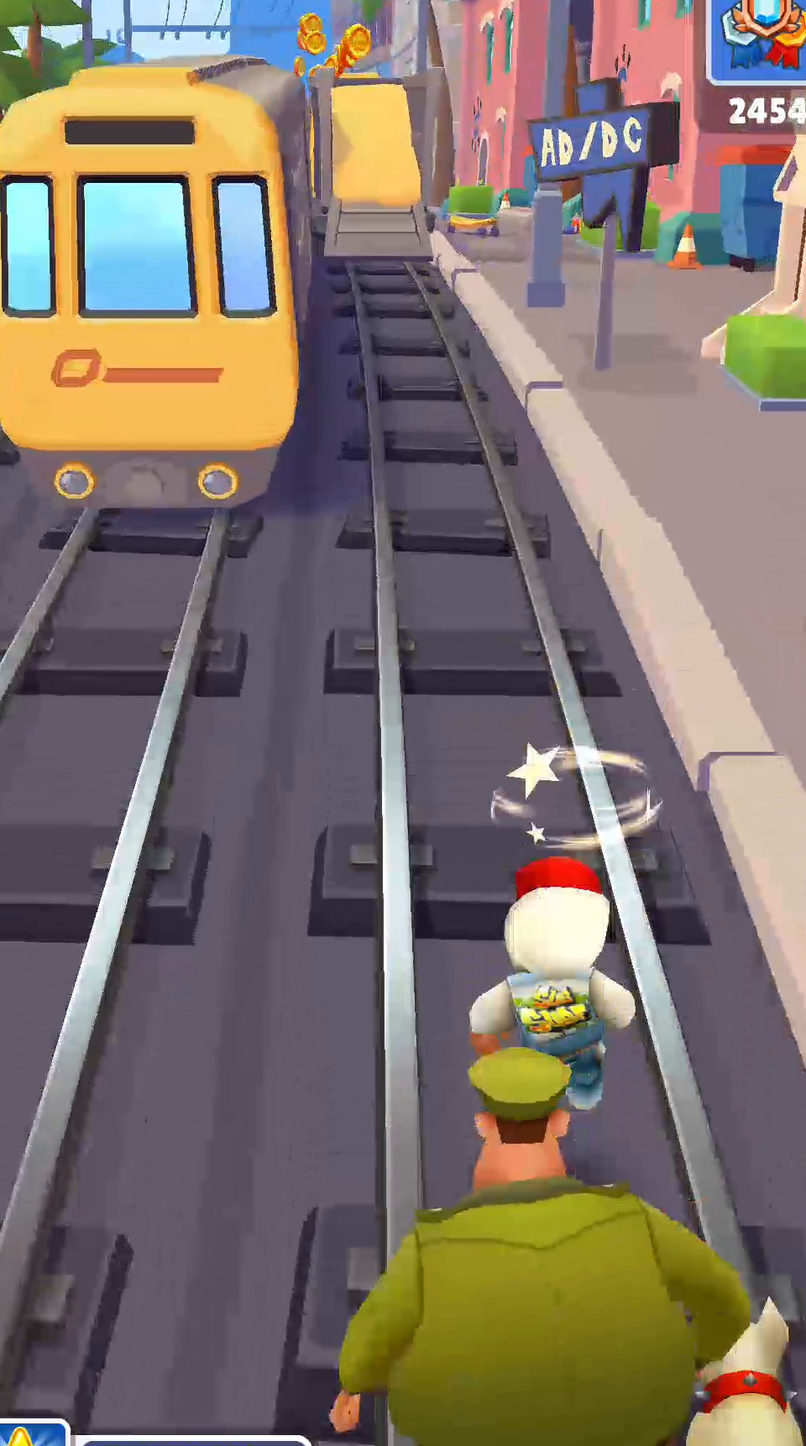climber: (325, 81, 429, 257)
police: (330, 1047, 751, 1445)
train: (0, 56, 311, 510)
